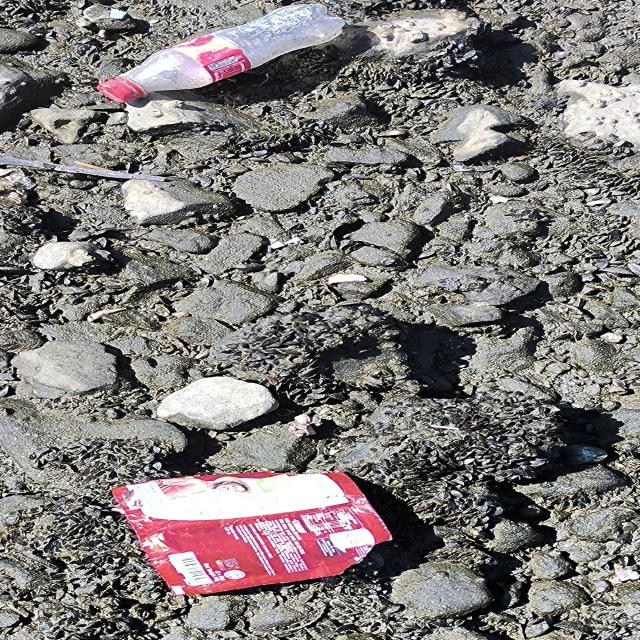plastic_waste: (112, 470, 394, 597), (97, 3, 349, 104)
